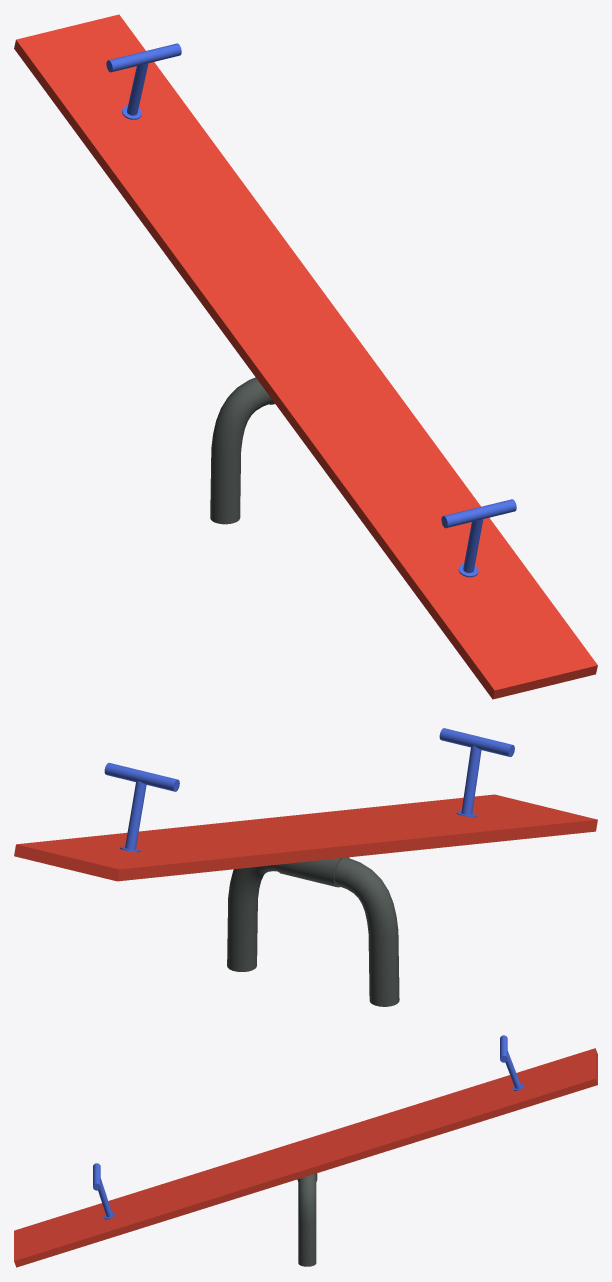
Rendered from SeeSaw.fbx.
The picture shows the model from 3 angles, top to bottom: view 1: azimuth 30°, elevation 25°; view 2: azimuth 150°, elevation 25°; view 3: azimuth 270°, elevation 25°; orthographic projection. The views are drawn at different scales.
Visible parts, largest first — view 1: Board, Frame, LHandlePt1, RHandlePt1; view 2: Board, Frame, RHandlePt1, LHandlePt1, RHandlePt2, LHandlePt2; view 3: Board, Frame.
Boxes of the visible parts, x1,y1,x2,y2 form: Board: (14, 14, 597, 699); Frame: (210, 377, 274, 524); LHandlePt1: (441, 499, 516, 528); RHandlePt1: (106, 43, 181, 72); Board: (14, 794, 597, 881); Frame: (227, 857, 399, 1006); RHandlePt1: (104, 763, 179, 791); LHandlePt1: (439, 728, 514, 756); RHandlePt2: (120, 781, 146, 852); LHandlePt2: (456, 745, 481, 817); Board: (14, 1048, 597, 1267); Frame: (297, 1173, 317, 1266).
Bounding box in the file's own units: 105 × 203 × 520.
